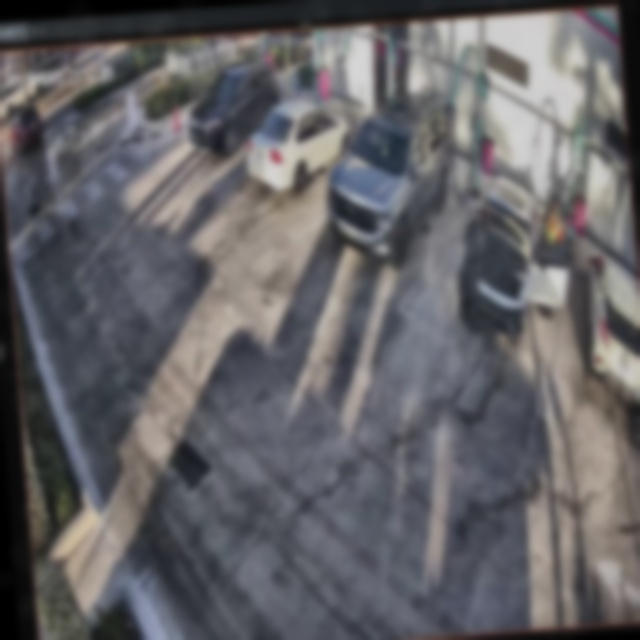Car: (317, 90, 459, 268), (452, 171, 576, 341), (243, 95, 357, 193), (183, 64, 285, 156)
